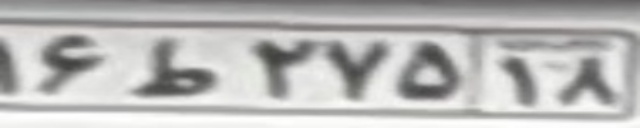1: (502, 54, 536, 105), (1, 34, 22, 94)
2: (253, 38, 316, 97)
5: (399, 39, 458, 98)
6: (32, 32, 109, 94)
7: (325, 39, 391, 100)
8: (556, 55, 619, 105)
taa: (126, 37, 216, 95)
